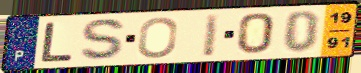0: (281, 9, 322, 55), (235, 12, 277, 56)
I: (201, 12, 223, 59)
L: (38, 21, 75, 64)
O: (135, 15, 180, 60)
S: (77, 17, 130, 63)
